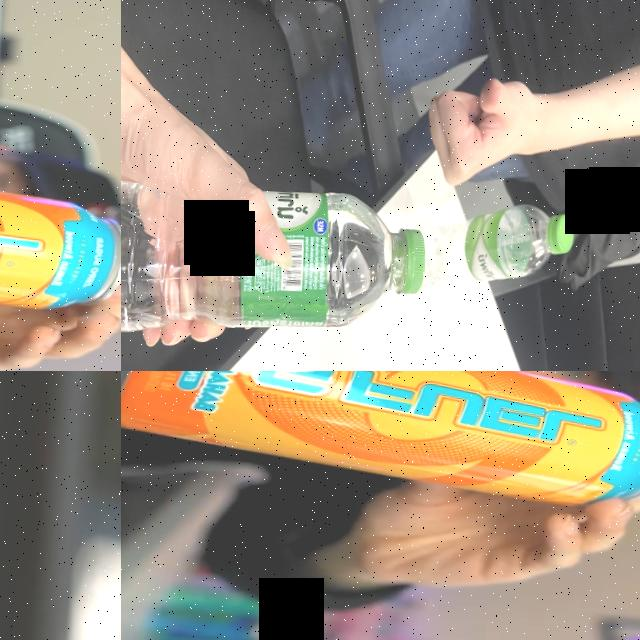bottle: (121, 167, 431, 359), (414, 195, 576, 299)
can: (121, 371, 640, 513), (0, 138, 121, 320)
